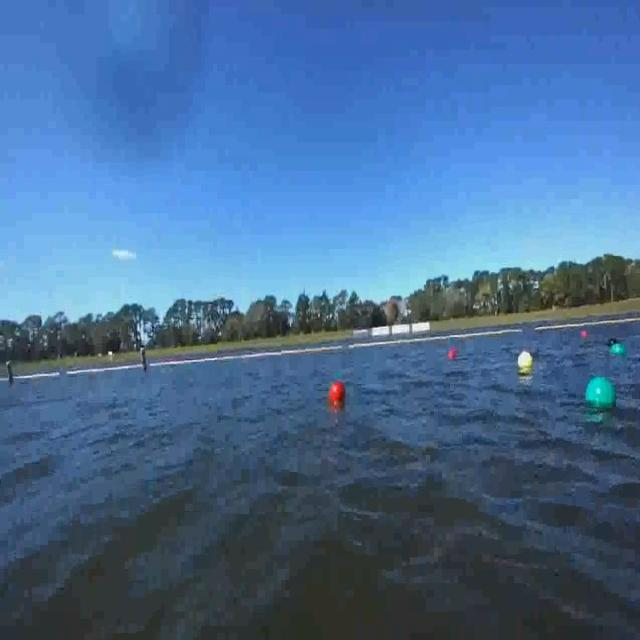green-buoy: (586, 376, 618, 410), (612, 345, 627, 357)
red-buoy: (332, 383, 346, 404), (449, 347, 458, 361), (582, 329, 586, 338)
yellow-buoy: (518, 351, 534, 370)
